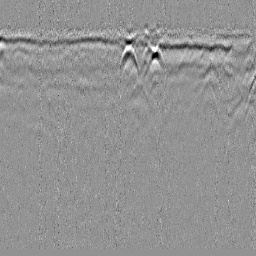cavity: (118, 43, 138, 72)
